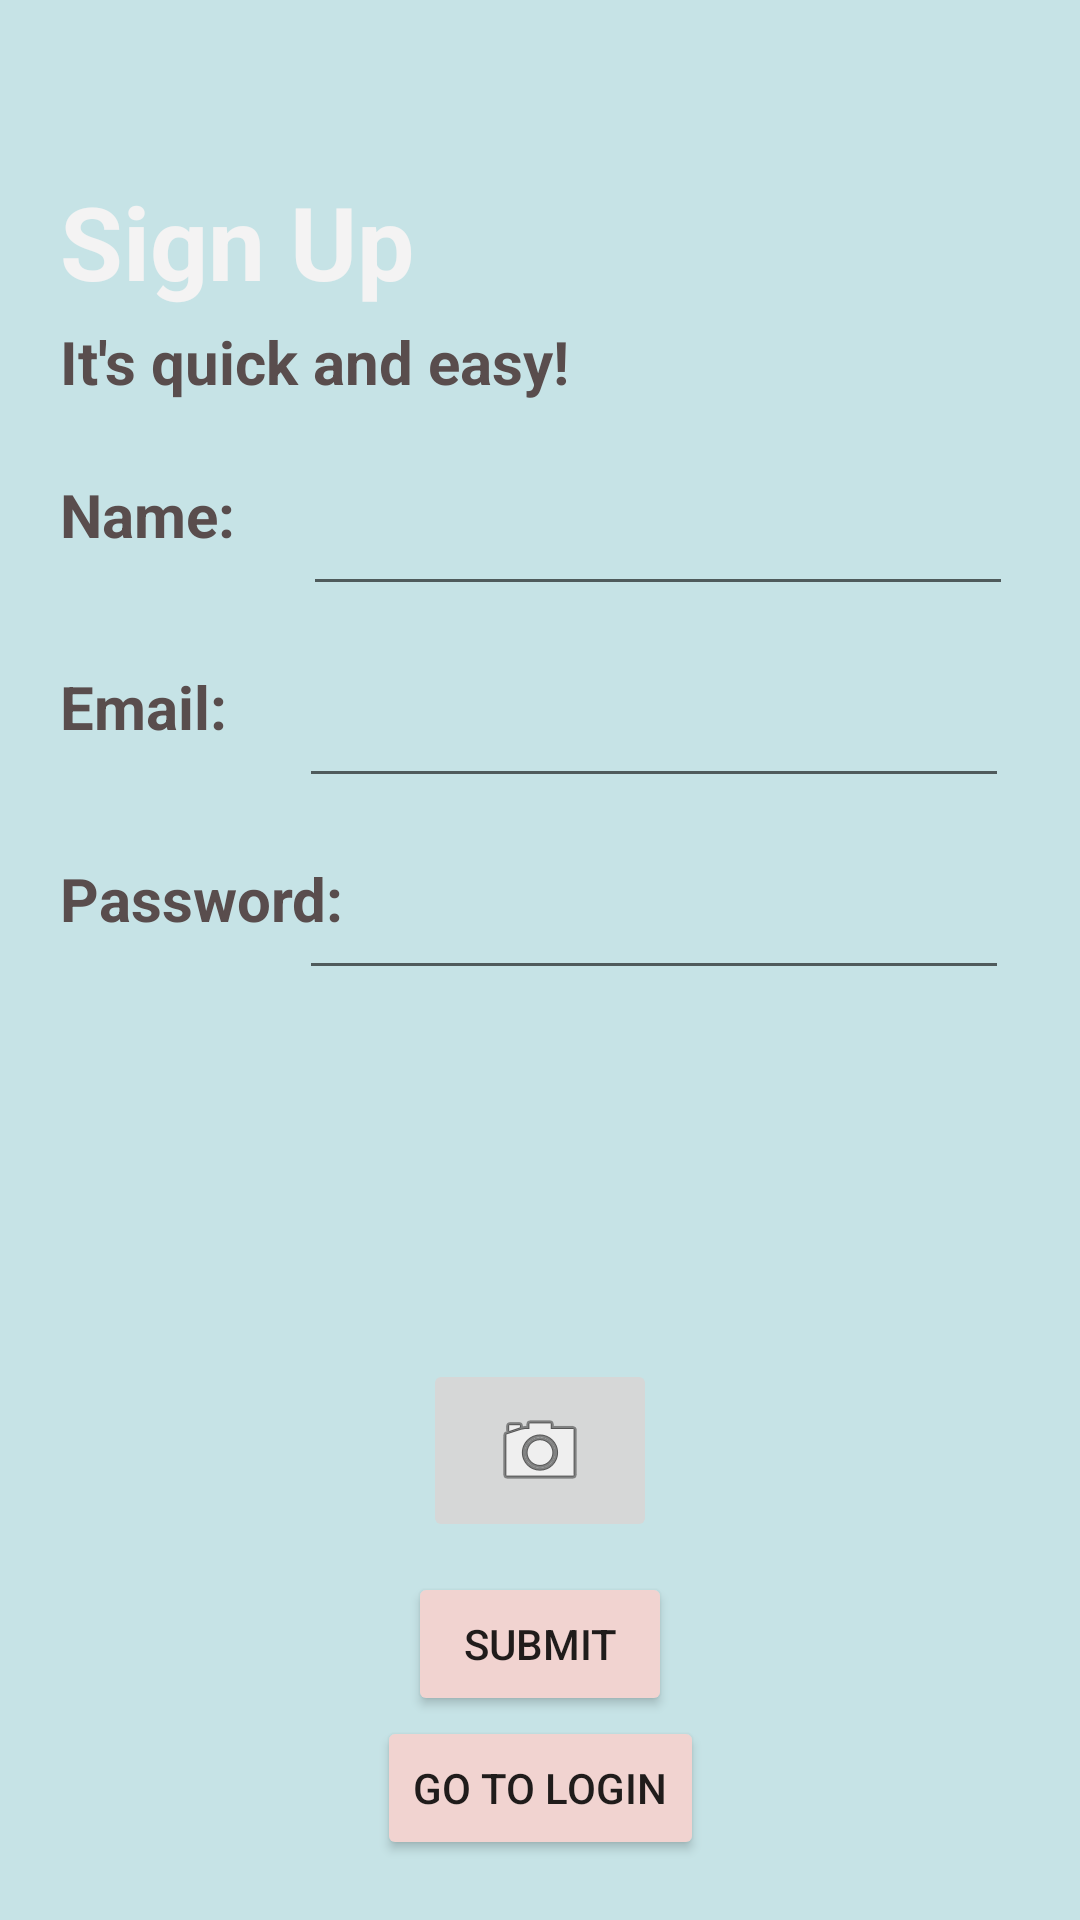

Icons on this 1080w x 1920h Android screen, each with the point to tap as point (x, y):
camera: point (540, 1449)
